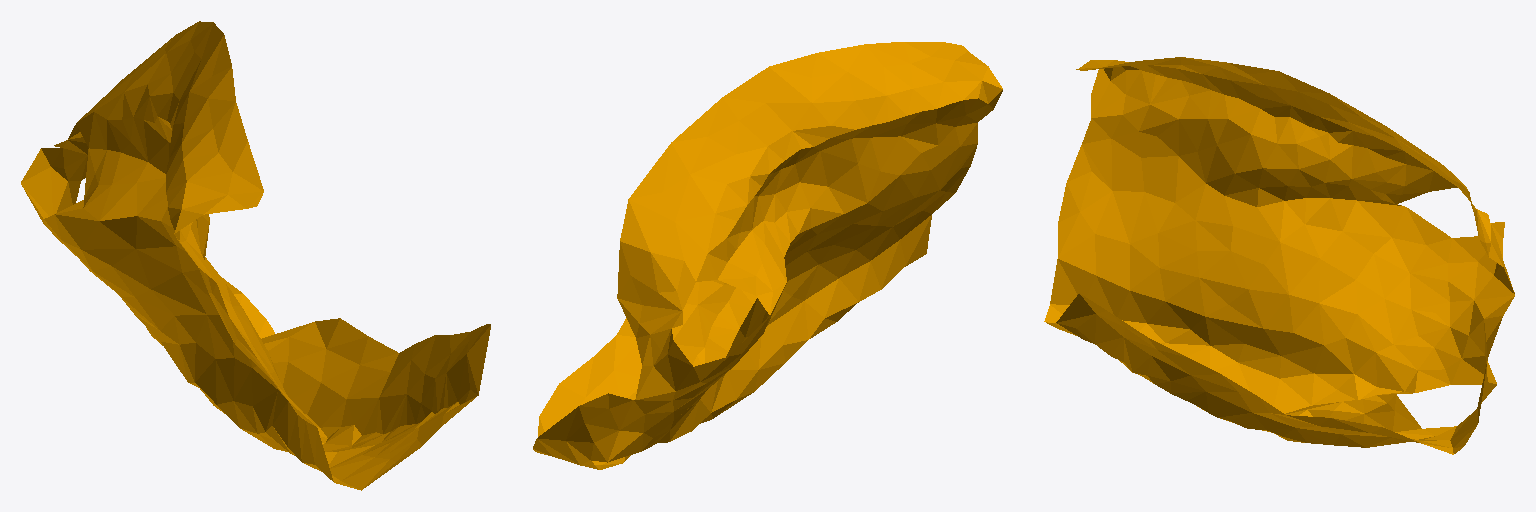
robot.urdf — init:
<?xml version='1.0' encoding='utf-8'?>
<robot name="init">
<link name="link_0"><inertial><mass value="1.0" /><origin rpy="0 0 0" xyz="0.000000 0.000000 0.000000" /><inertia ixx="1.0" ixy="0.0" ixz="0.0" iyy="1.0" iyz="0.0" izz="1.0" /></inertial><visual><origin rpy="0 0 0" xyz="0.000000 0.000000 0.000000" /><geometry><mesh filename="./clothHuman/cloth/492.obj" /></geometry></visual><collision><origin rpy="0 0 0" xyz="0.000000 0.000000 0.000000" /><geometry><mesh filename="./clothHuman/cloth/492.obj" /></geometry></collision></link></robot>

--- Facts derived from the render (not from the file) ---
3 views of the same robot in one strip: view 1: azimuth 30°, elevation 25°; view 2: azimuth 150°, elevation 25°; view 3: azimuth 270°, elevation 25° (orthographic).
Model init with 1 links and 0 joints (none), rooted at link_0, posed every joint at zero.
Visible links, largest first — view 1: link_0; view 2: link_0; view 3: link_0.
Link boxes in pixels (left/top/right/bottom): link_0: left=21, top=21, right=490, bottom=490; link_0: left=533, top=42, right=1002, bottom=469; link_0: left=1044, top=57, right=1514, bottom=454.
Size in the robot's own frame: 2.42 by 3.68 by 2.89 metres.
1 mesh visuals loaded from 1 distinct referenced files (1 OBJ).